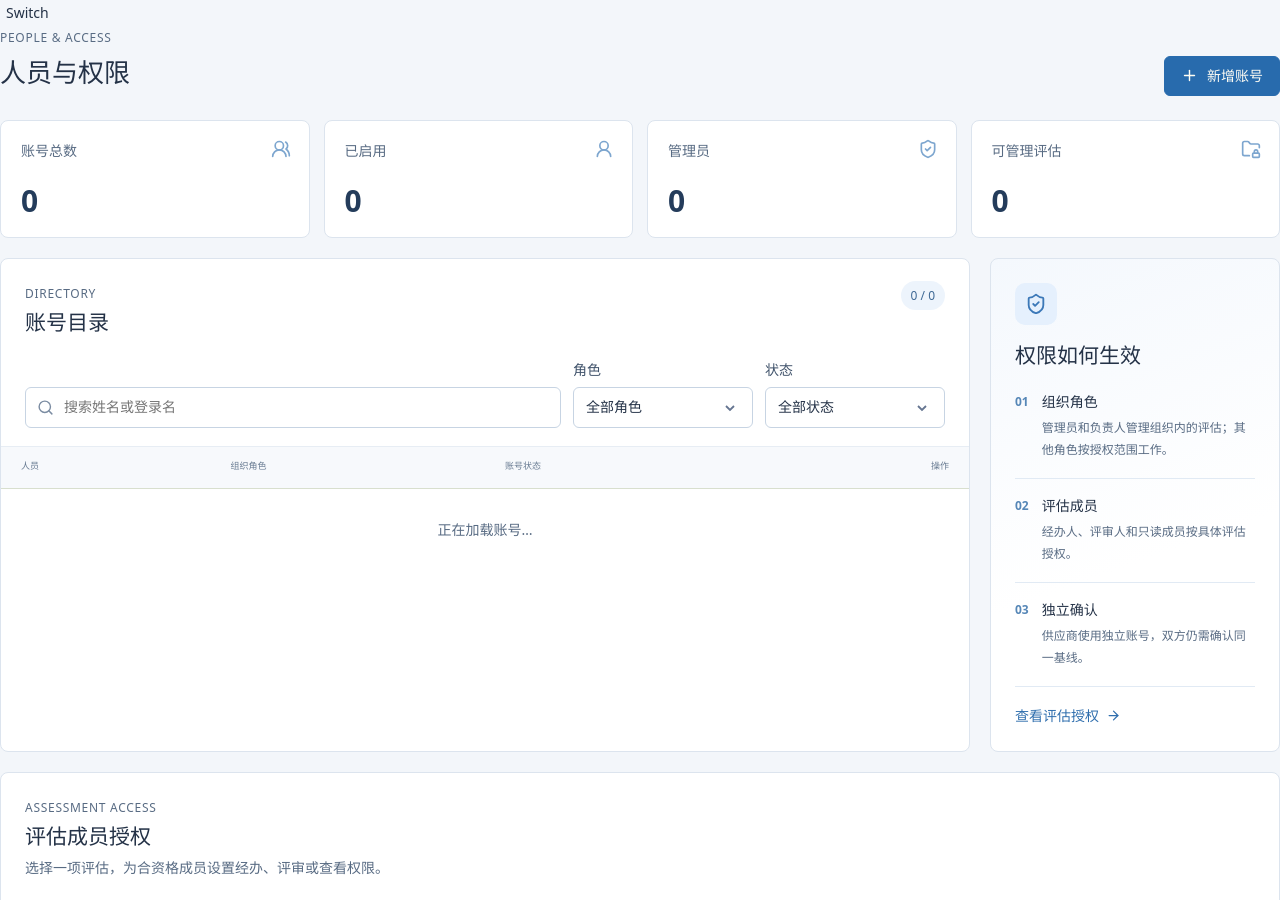
it: creates an account from the dialog with the selected organization role
Click the button "新增账号" at (1222, 76), box top-left (1164, 56), bottom-right (1279, 96)
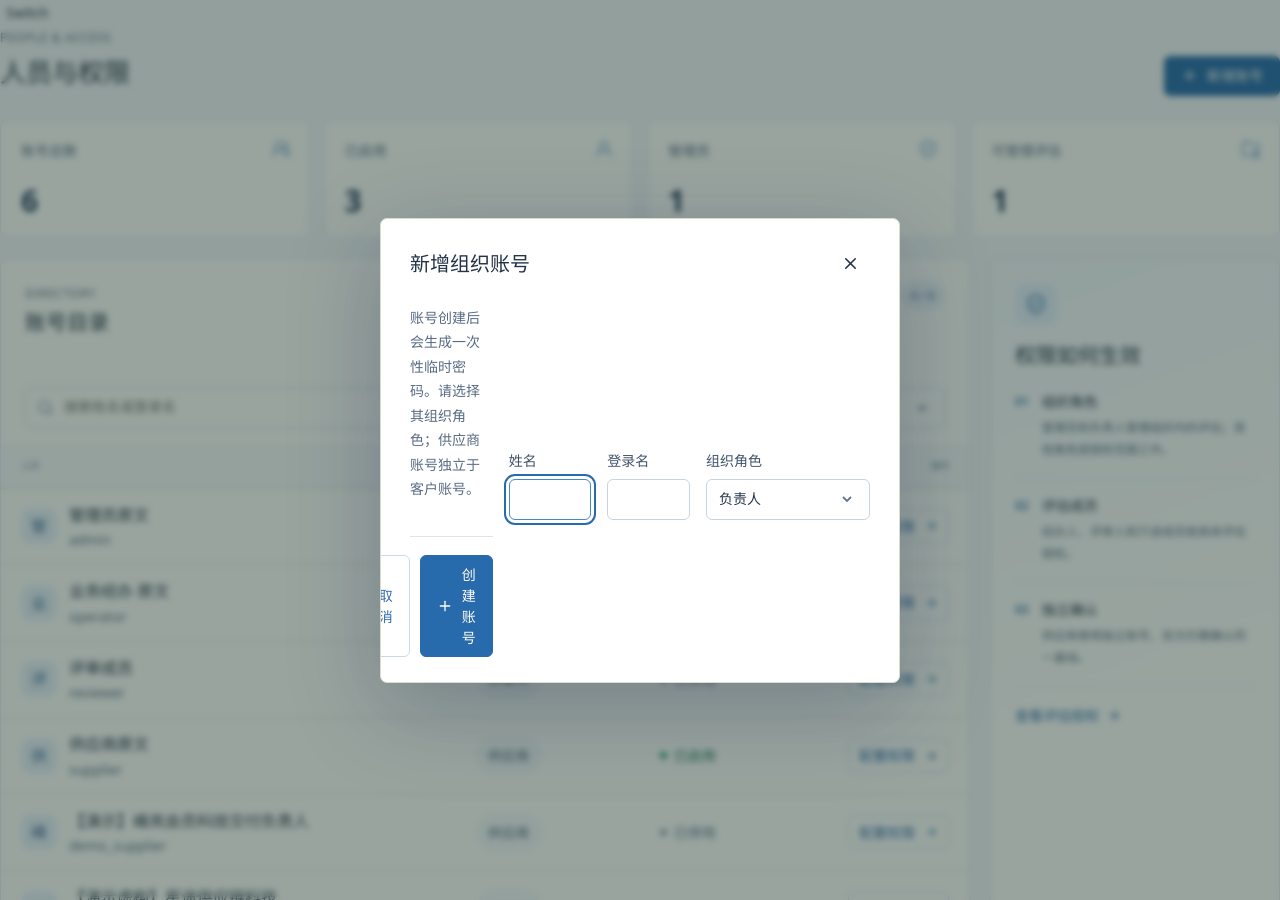
Type "新成员原文" into the field labelled "姓名" at (550, 499), box top-left (509, 479), bottom-right (591, 520)
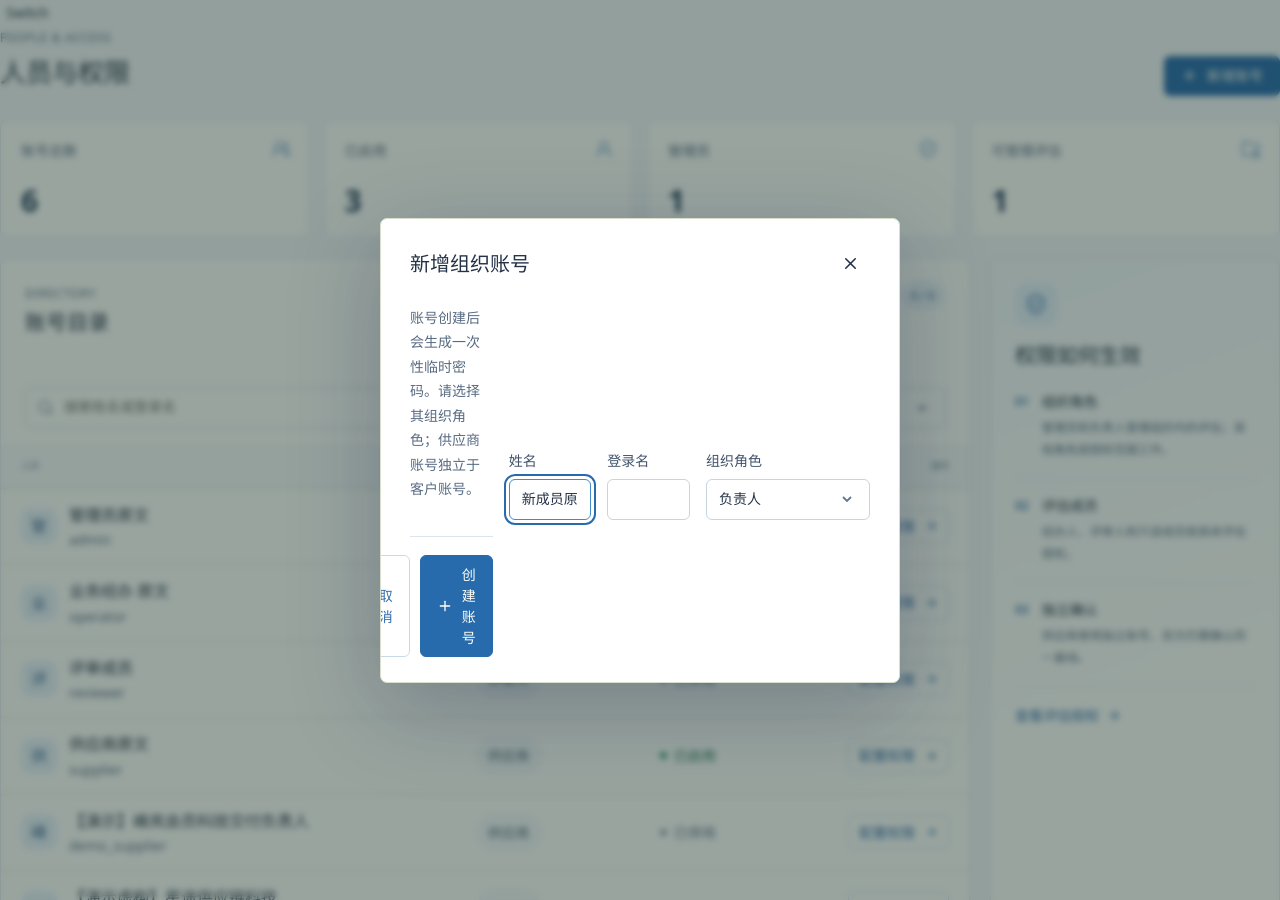
Type "new_member" into the field labelled "登录名" at (649, 499), box top-left (607, 479), bottom-right (690, 520)
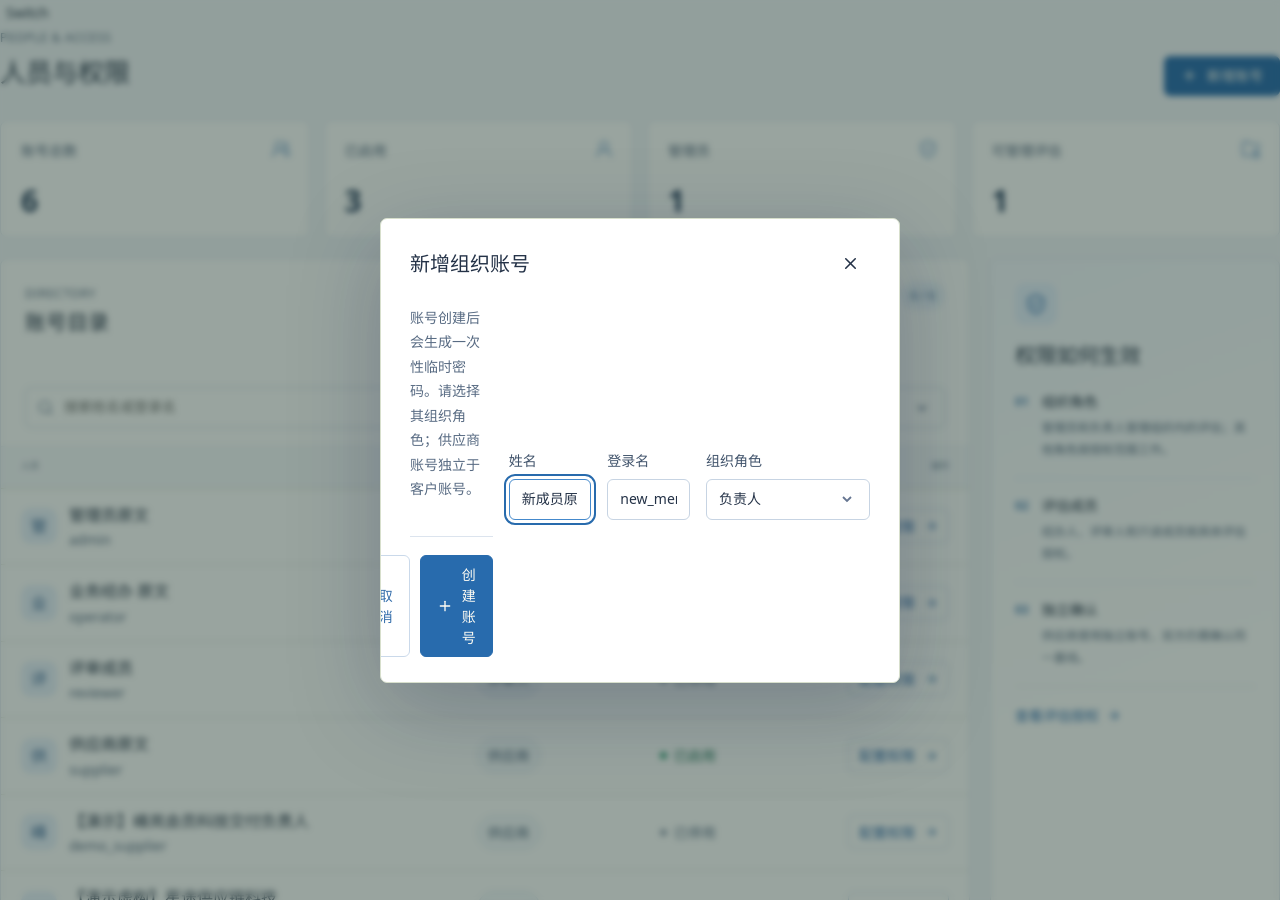
Select "评审人" in the dropdown labelled "组织角色" at (788, 499), box top-left (706, 479), bottom-right (870, 520)
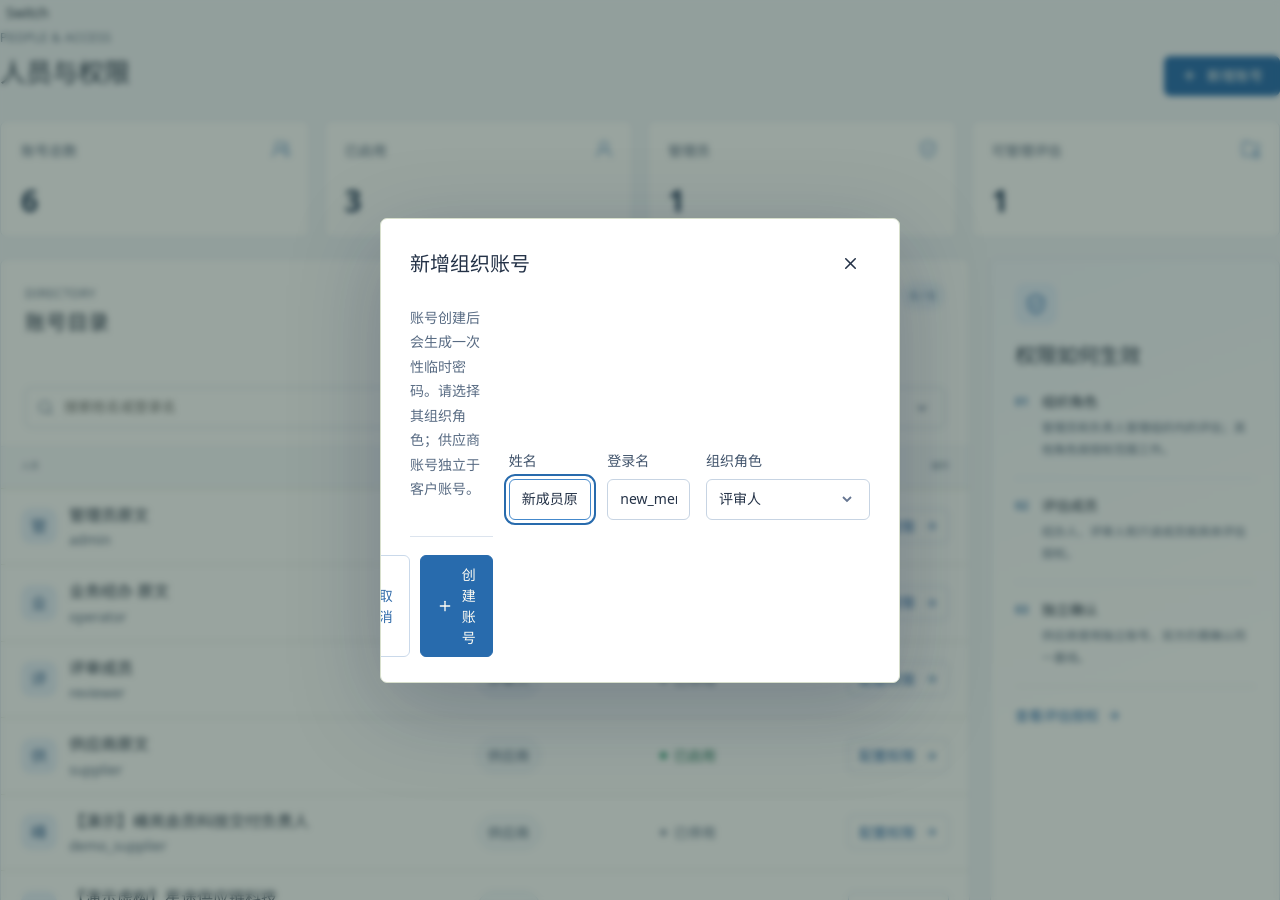
Click the button "创建账号" at (456, 606), box top-left (420, 554), bottom-right (493, 656)
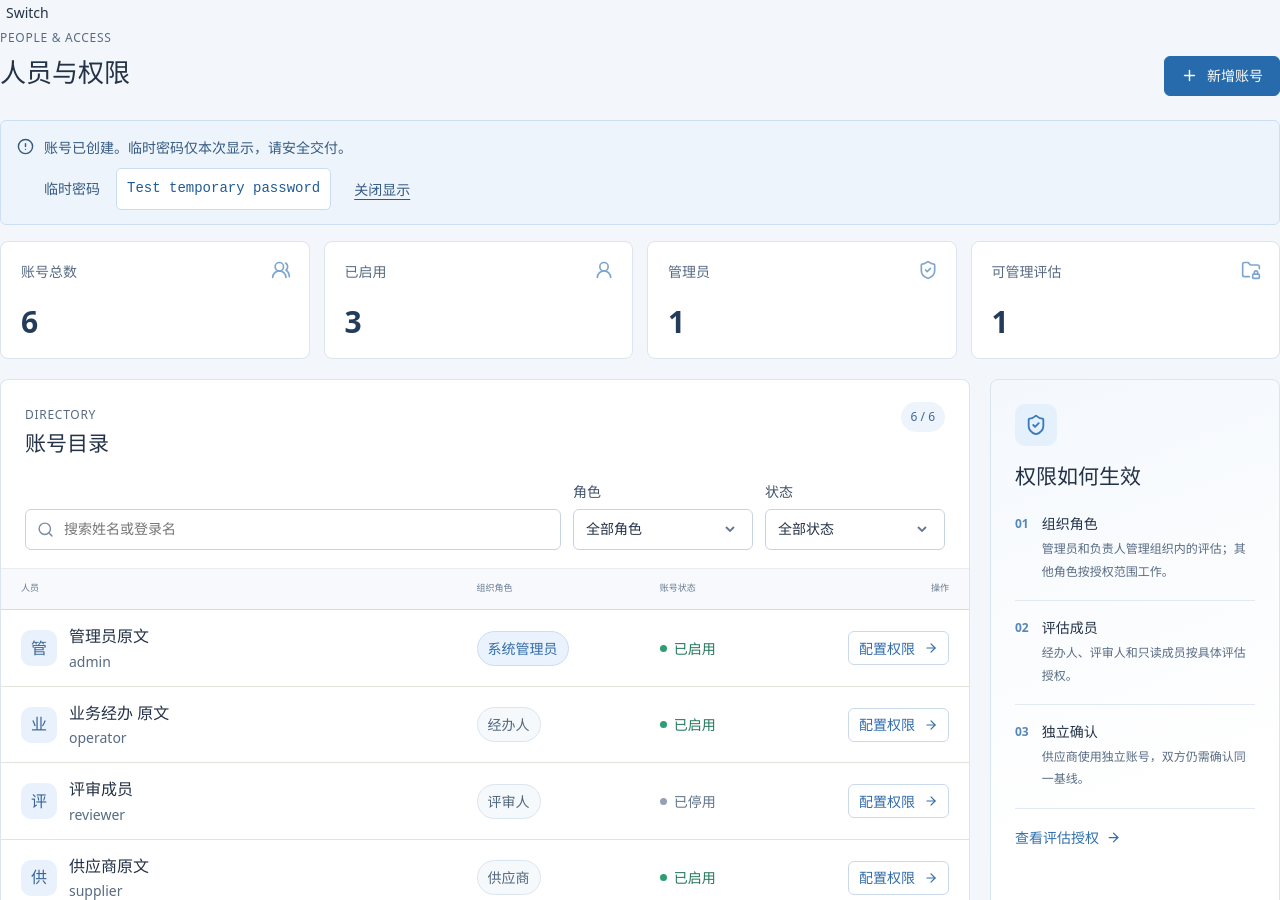
expect the text "Test temporary password" is shown: met, box top-left (116, 168), bottom-right (331, 210)
